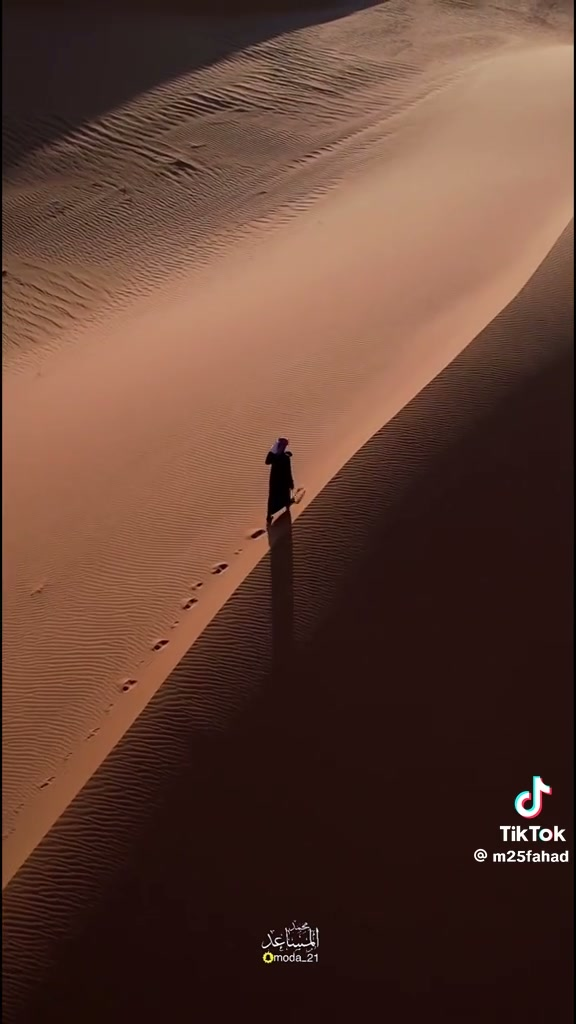human_footprint: (30, 579, 48, 598), (291, 487, 305, 504), (152, 639, 169, 652), (121, 678, 136, 692), (39, 776, 55, 789), (181, 596, 197, 609), (249, 528, 266, 540), (211, 562, 228, 574), (86, 727, 100, 740), (190, 581, 204, 591), (170, 619, 180, 630), (234, 548, 241, 555)
